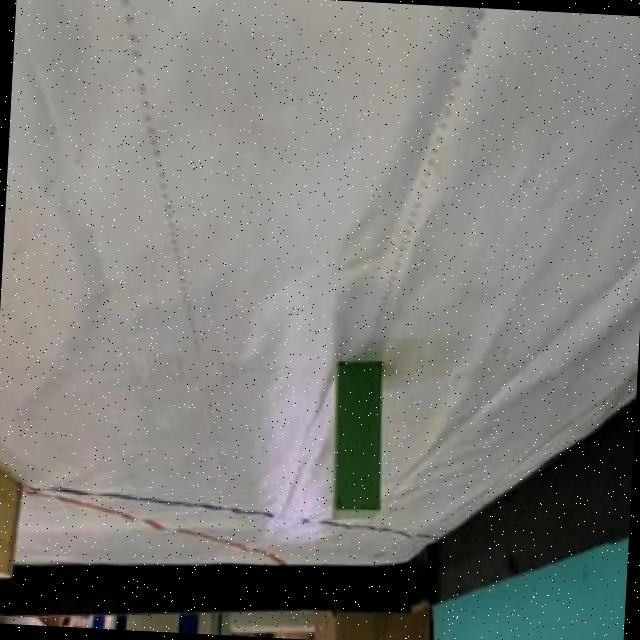greenbox: (328, 355, 388, 526)
